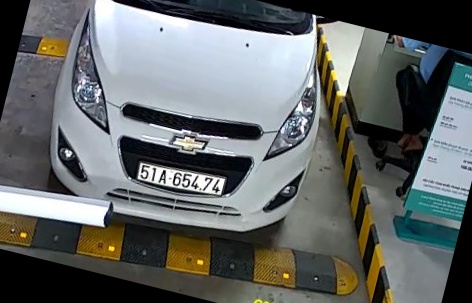plate: (133, 159, 229, 205)
